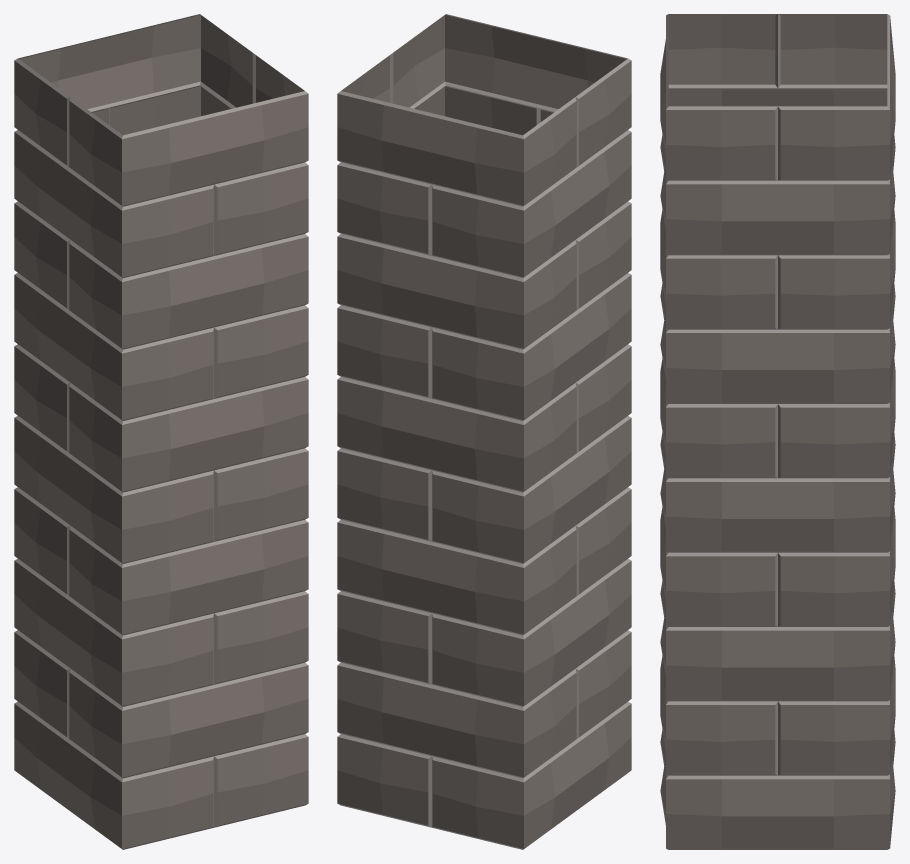
The model's file is Chimney_Tube.fbx.
3 renders of one model, left to right at view 1: azimuth 30°, elevation 25°; view 2: azimuth 150°, elevation 25°; view 3: azimuth 270°, elevation 25°, orthographic. The views are drawn at different scales.
Visible parts, largest first — view 1: Chimney_Tube; view 2: Chimney_Tube; view 3: Chimney_Tube.
Boxes of the visible parts, x1,y1,x2,y2 form: Chimney_Tube: (14,14,308,849); Chimney_Tube: (337,14,631,849); Chimney_Tube: (660,14,895,849).
Bounding box in the file's own units: 0.86 × 0.86 × 3.
